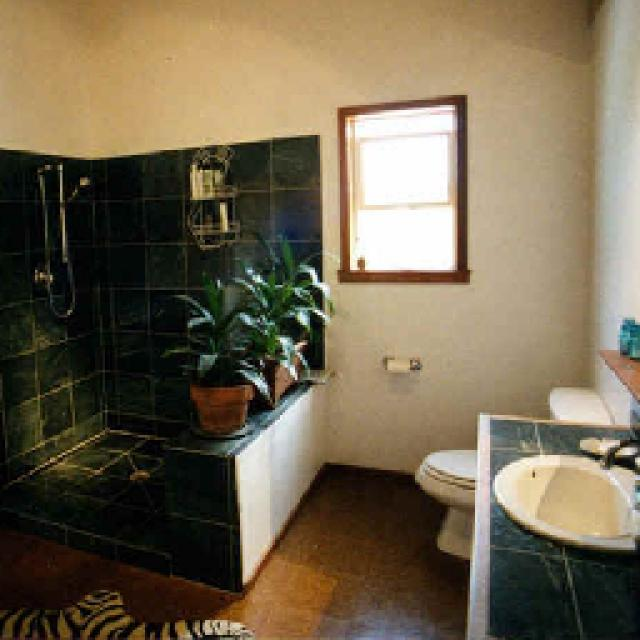2001: (335, 95, 462, 278)
bottles occluded: (188, 160, 220, 192), (612, 315, 632, 358)
counter bottom: (465, 412, 635, 635)
floor -X: (0, 465, 468, 632)
plant -x: (225, 228, 330, 402), (160, 270, 268, 430)
rack: (178, 138, 240, 250)
rug -partially obscured-: (0, 585, 245, 635)
shelf crop: (592, 348, 635, 398)
shower crop: (0, 128, 322, 588)
shower handle: (25, 158, 88, 318)
sink basin: (495, 455, 635, 545)
sink occluded: (582, 438, 635, 472)
toilet bowl: (408, 442, 472, 558), (410, 448, 475, 552), (545, 382, 610, 420)
toilet paper: (382, 352, 418, 370)
